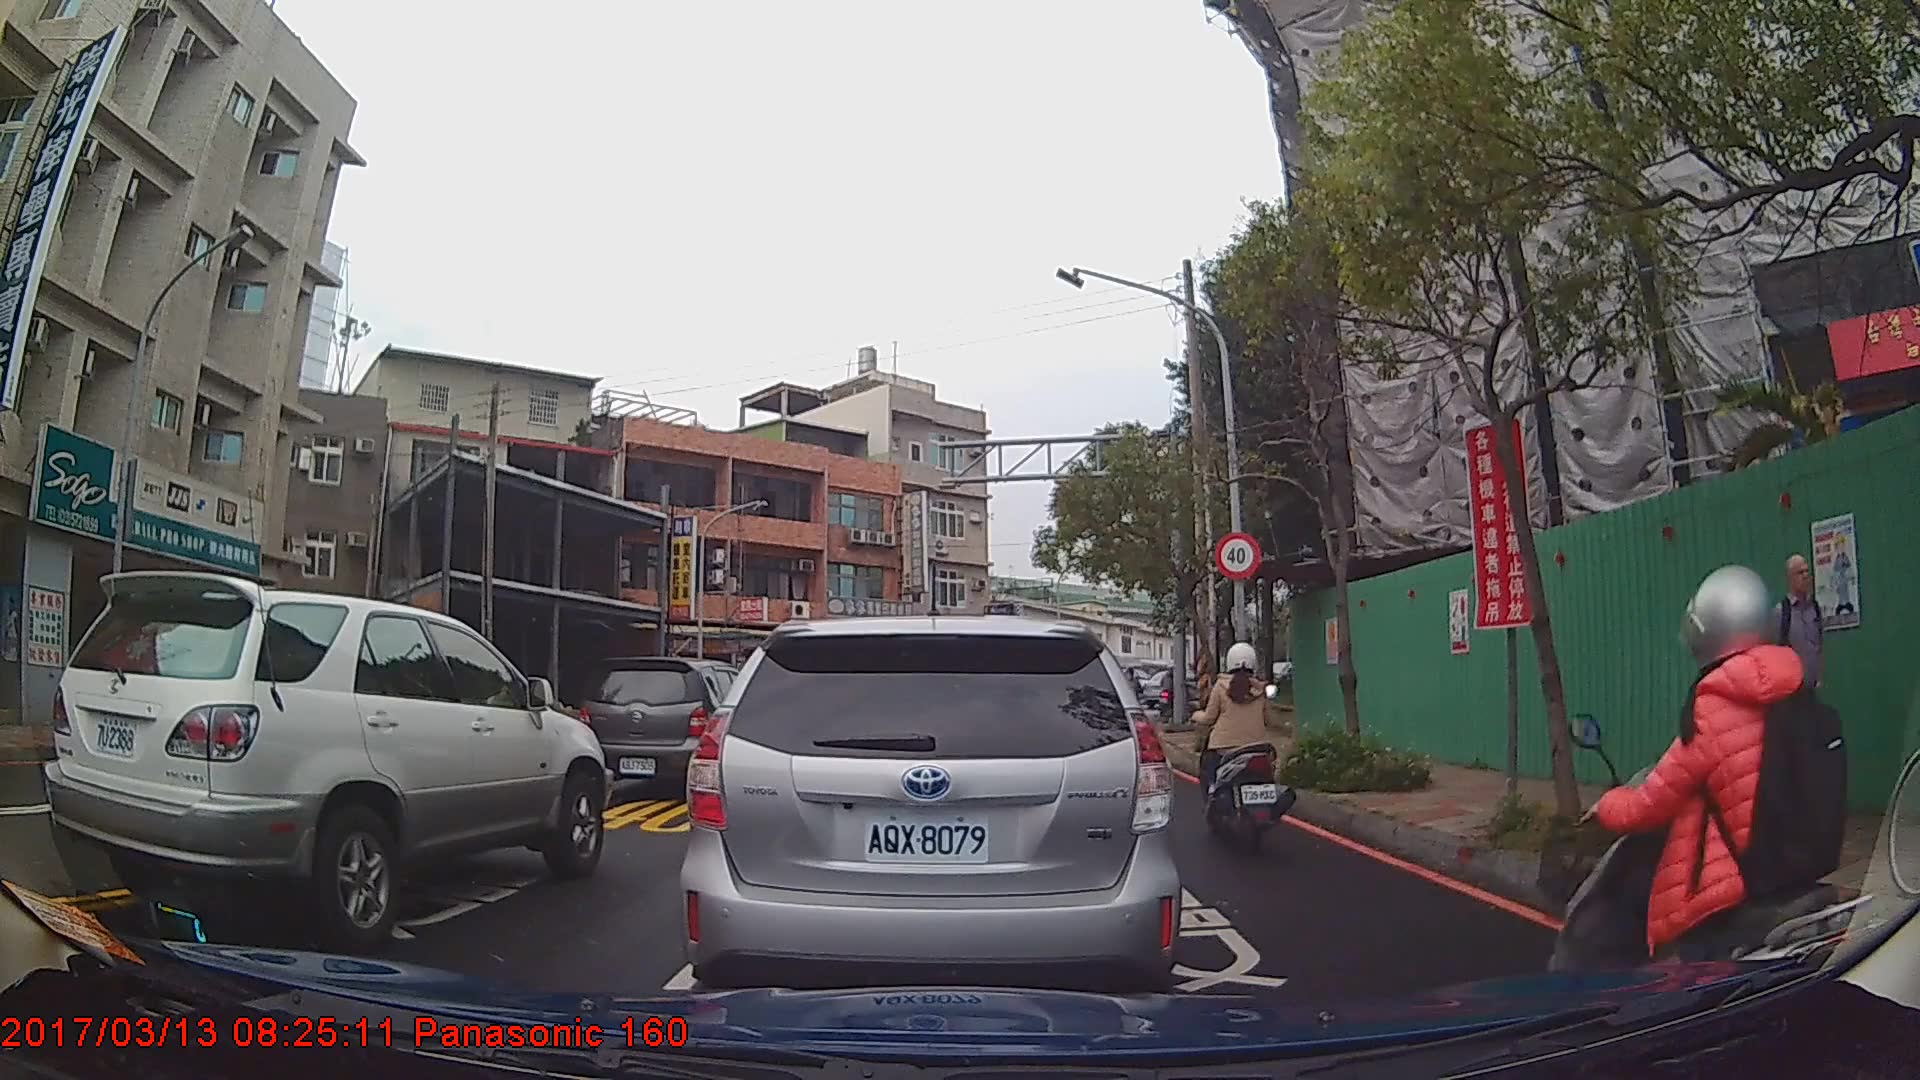rider: (1532, 563, 1920, 1080), (1200, 639, 1298, 855), (1157, 668, 1181, 718)
vehicle: (45, 570, 611, 948), (675, 611, 1183, 1024), (579, 655, 778, 796)
